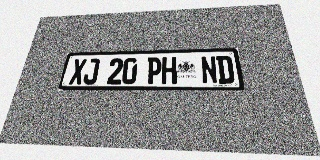0: (121, 58, 138, 84)
2: (107, 58, 124, 84)
D: (216, 56, 235, 84)
H: (161, 57, 177, 84)
J: (82, 59, 100, 84)
N: (200, 56, 218, 84)
P: (146, 57, 162, 84)
X: (69, 59, 87, 84)
